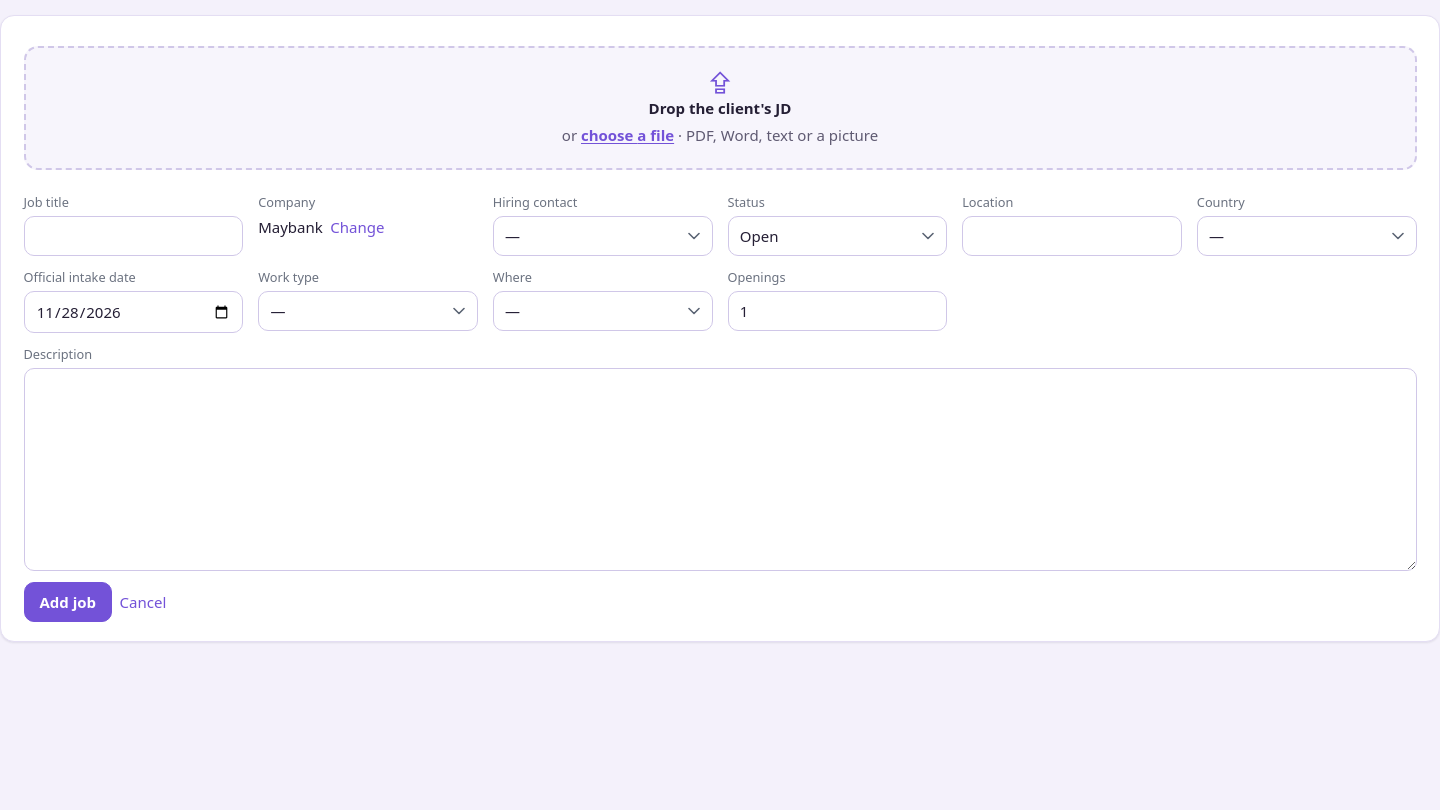
it: job form › refuses a bad number of openings before sending
In the field labelled "Job title": (133, 236) [24,216,243,256], type "Auditor"
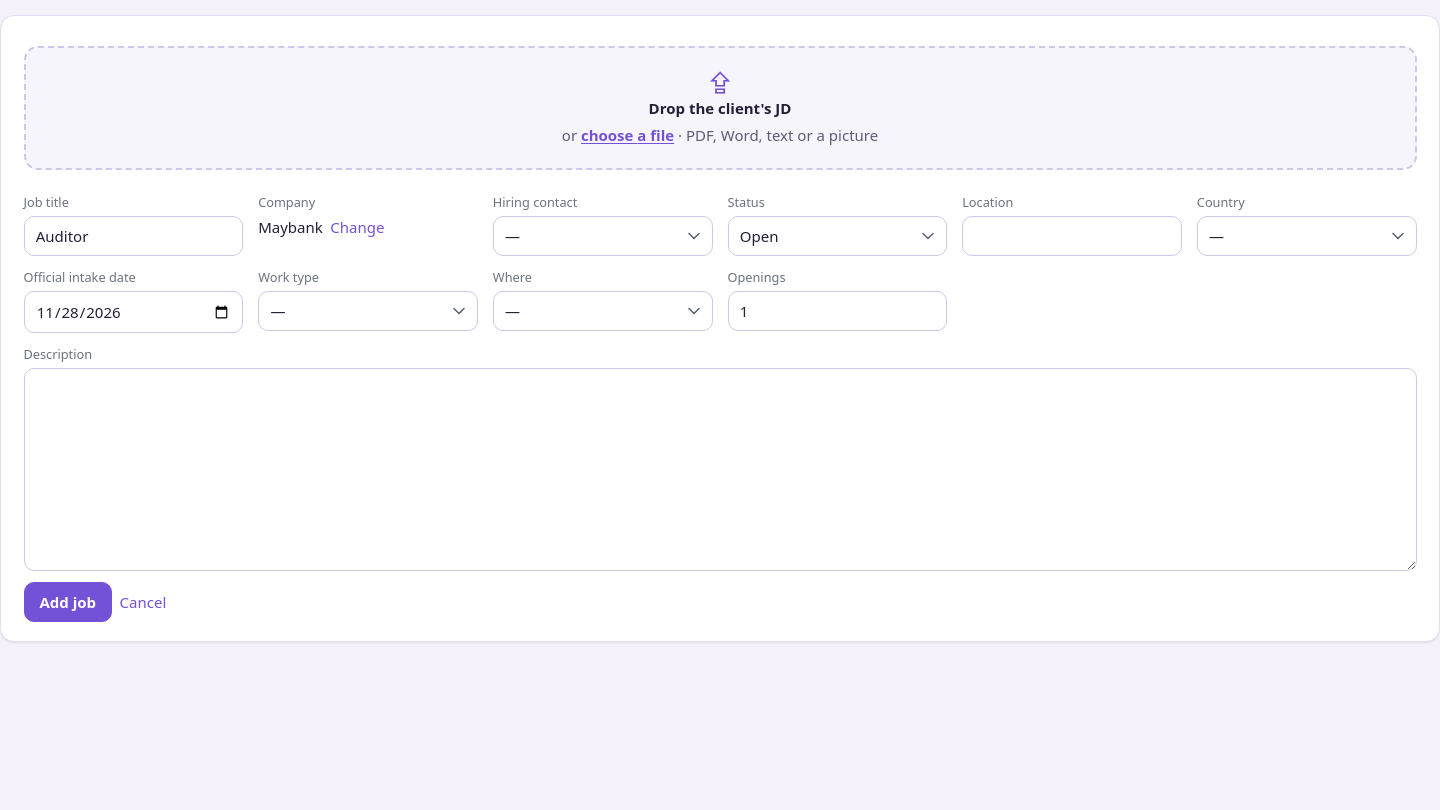
Replace the text in the field labelled "Openings" with "0": (837, 311) [728,291,947,331]
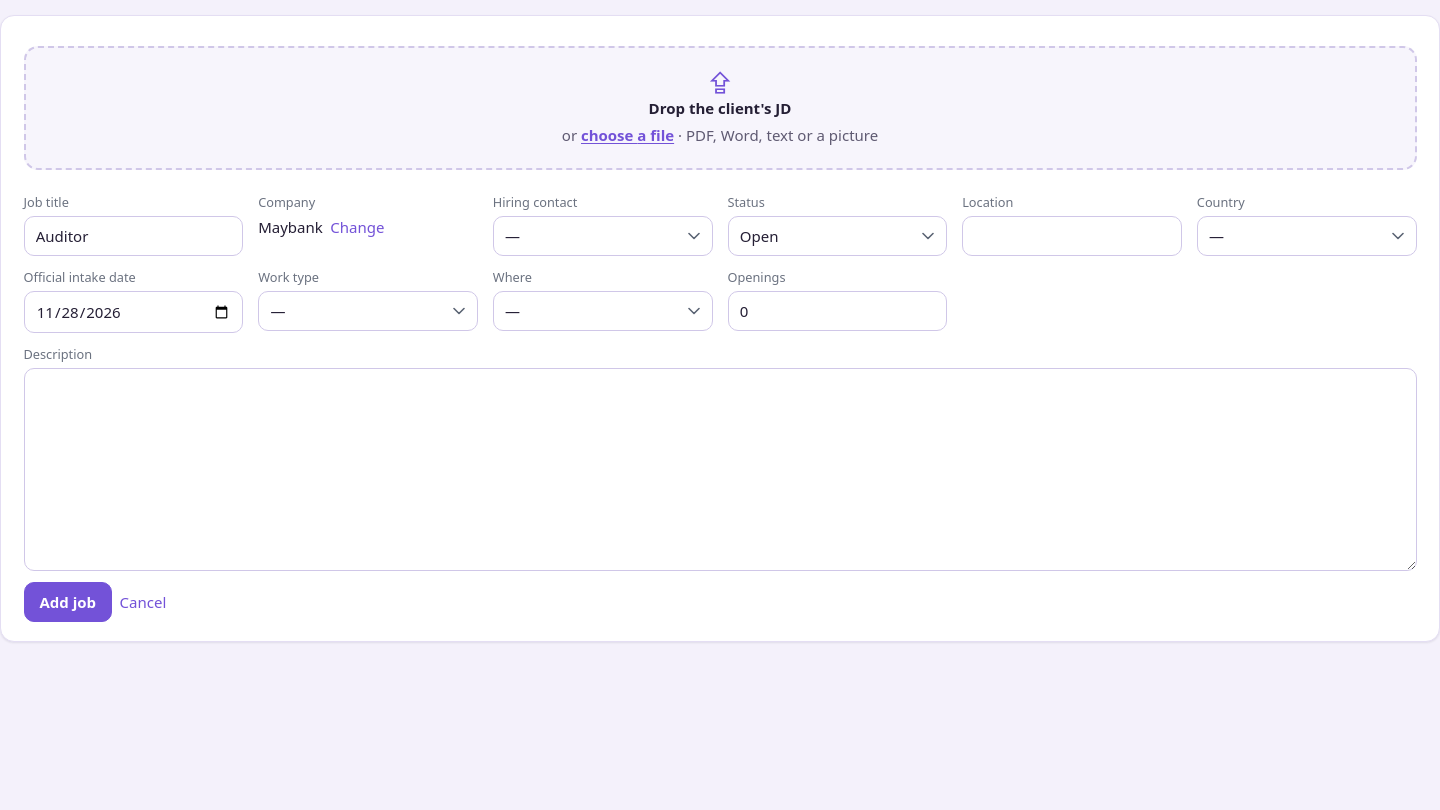
Click the button "Add job": (68, 602) [24,582,112,622]
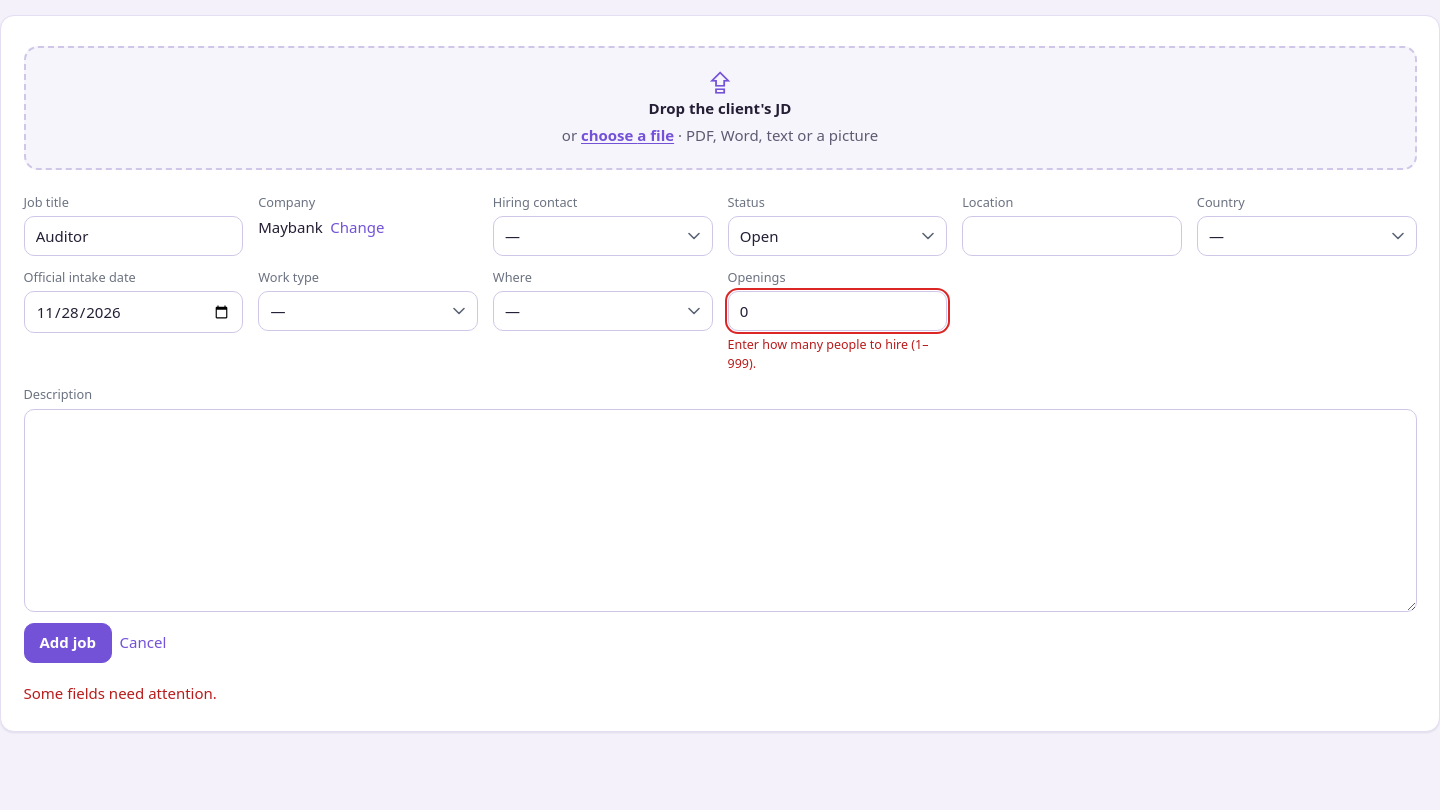
Now the text "Enter how many people to hire (1–999)." is shown, box [728,335,947,374]
